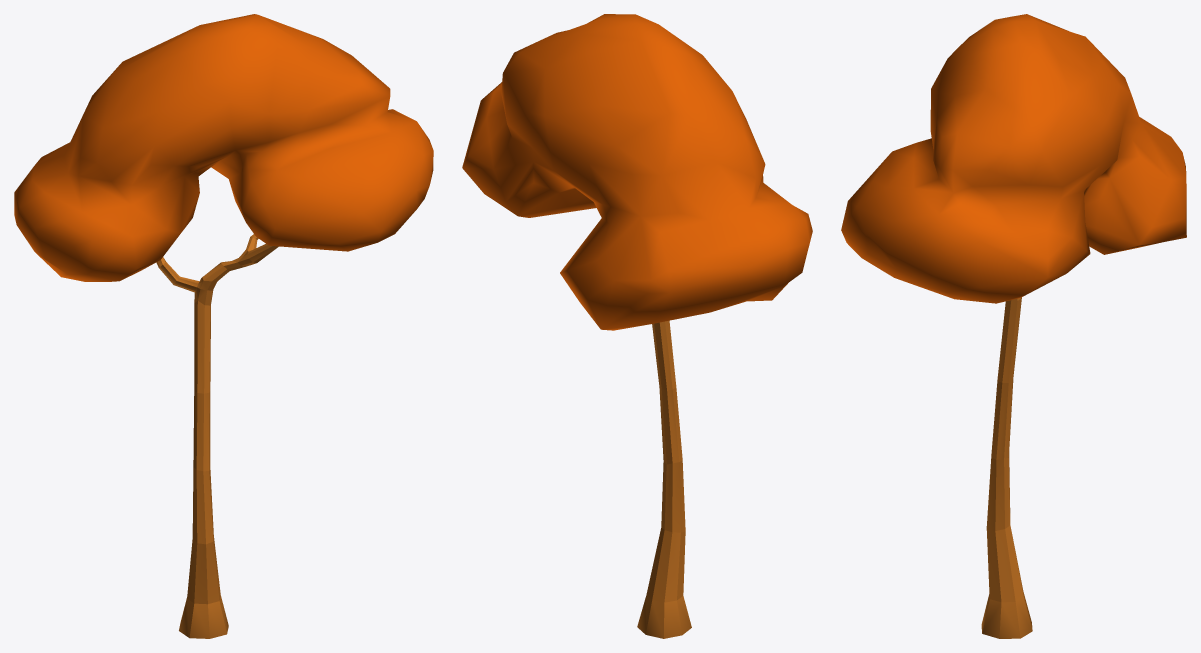
File: Tree_17_Fall.fbx
The picture shows the model from 3 angles, left to right: view 1: azimuth 30°, elevation 25°; view 2: azimuth 150°, elevation 25°; view 3: azimuth 270°, elevation 25°; orthographic projection. The views are drawn at different scales.
Parts seen in each view (by area): view 1: Tree_17_p2_Fall, Tree_17_p1_Fall; view 2: Tree_17_p2_Fall, Tree_17_p1_Fall; view 3: Tree_17_p2_Fall, Tree_17_p1_Fall.
Part boxes in pixels (x1,y1,x2,y2): Tree_17_p2_Fall: (14,14,433,281); Tree_17_p1_Fall: (156,234,278,638); Tree_17_p2_Fall: (462,14,812,330); Tree_17_p1_Fall: (637,320,691,638); Tree_17_p2_Fall: (841,14,1186,303); Tree_17_p1_Fall: (981,297,1032,638).
Size of the model in its own units: 342 by 550 by 278.
